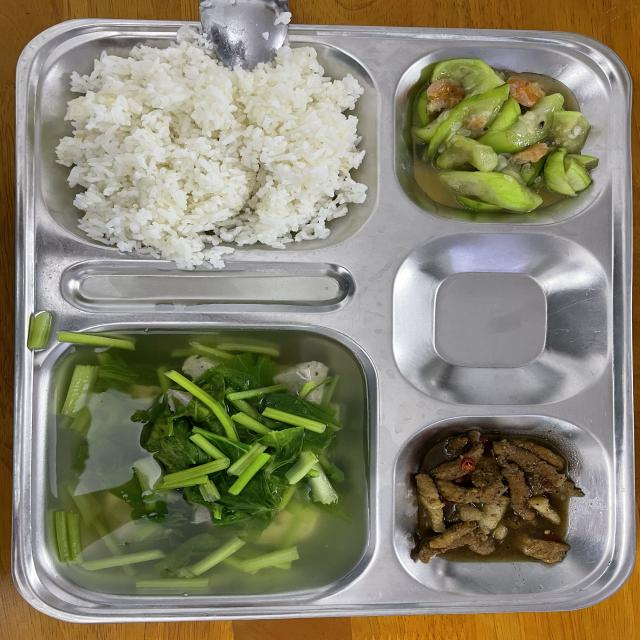canh cai: (30, 329, 370, 601), (27, 311, 53, 350)
com: (55, 26, 367, 270)
kho tieu: (415, 430, 584, 563)
rau: (410, 58, 599, 214)
